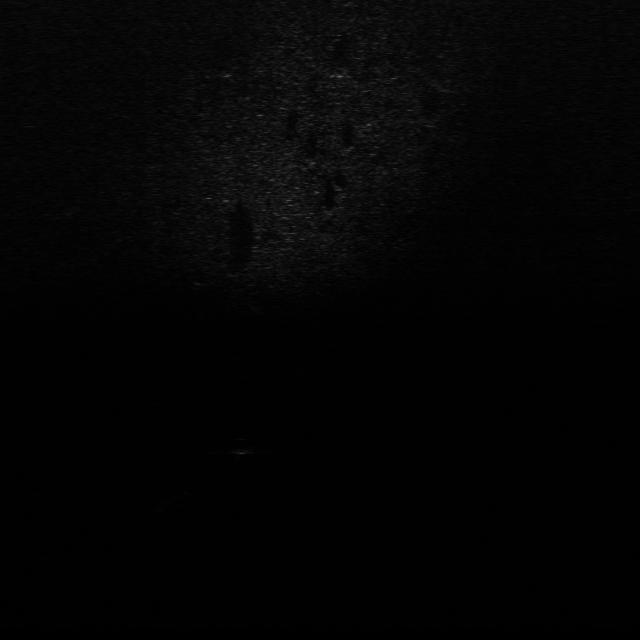ball: (227, 434, 261, 460)
